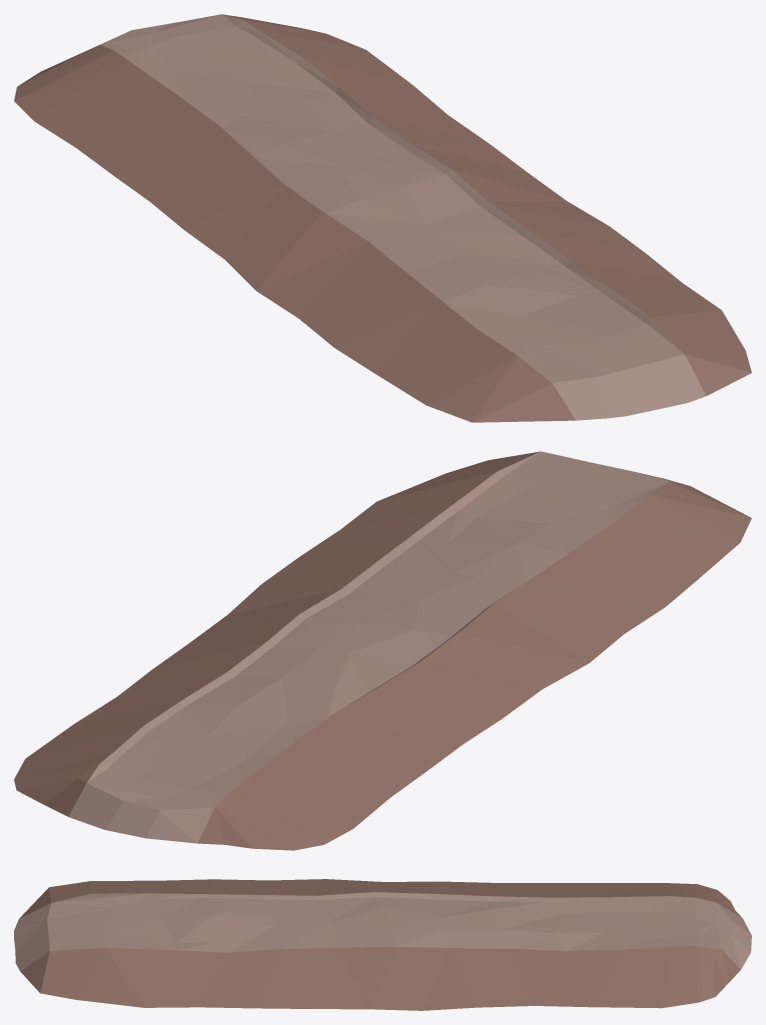
File: road_001.fbx
The picture shows the model from 3 angles, top to bottom: view 1: azimuth 30°, elevation 25°; view 2: azimuth 150°, elevation 25°; view 3: azimuth 270°, elevation 25°; orthographic projection. The views are drawn at different scales.
Parts seen in each view (by area): view 1: road_001; view 2: road_001; view 3: road_001.
Part boxes in pixels (bbox=[...]): road_001: bbox=[14, 14, 751, 422]; road_001: bbox=[14, 451, 751, 850]; road_001: bbox=[14, 879, 751, 1010].
Size of the model in its own units: 2310 by 5918 by 295.
